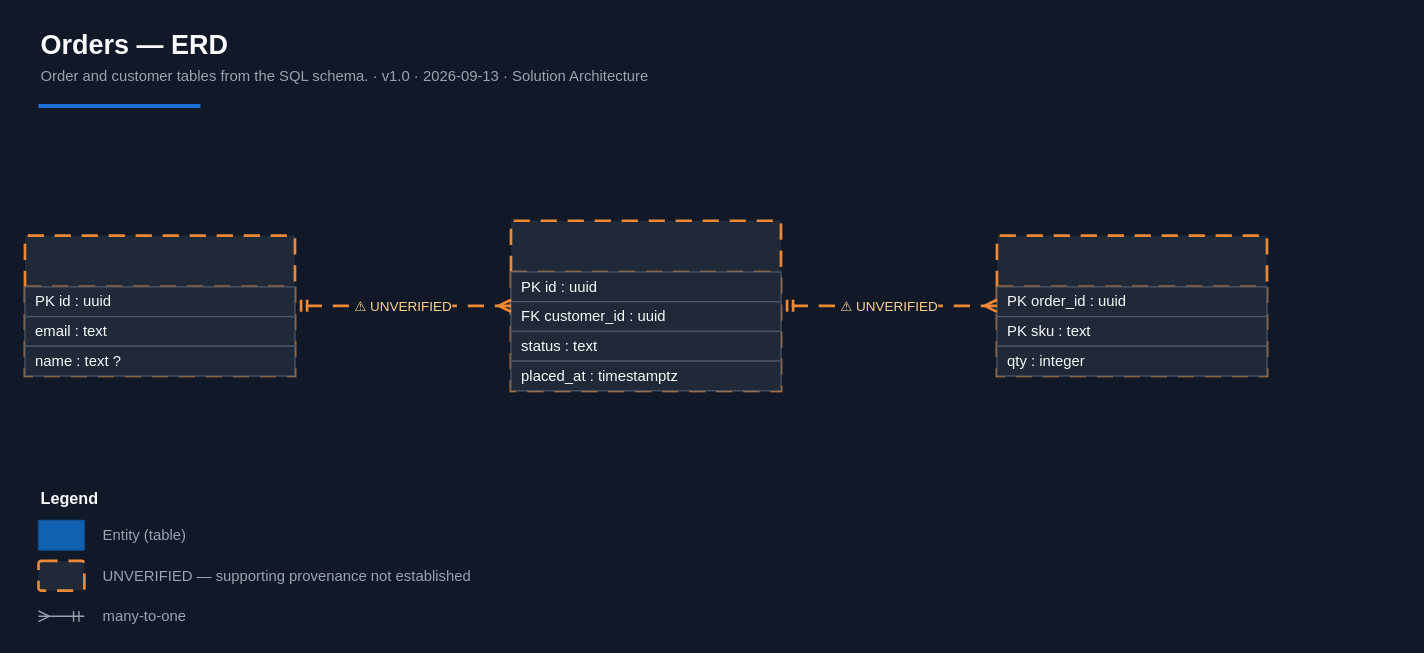
Image size: 1424x653. Some labels were removed from this diagram. Here are the shapes that lost their labels. From the top down, the box of each, then its label:
(23, 234, 296, 377): customers ⚠ UNVERIFIED
(509, 219, 782, 392): orders ⚠ UNVERIFIED
(995, 234, 1268, 377): order_items ⚠ UNVERIFIED
